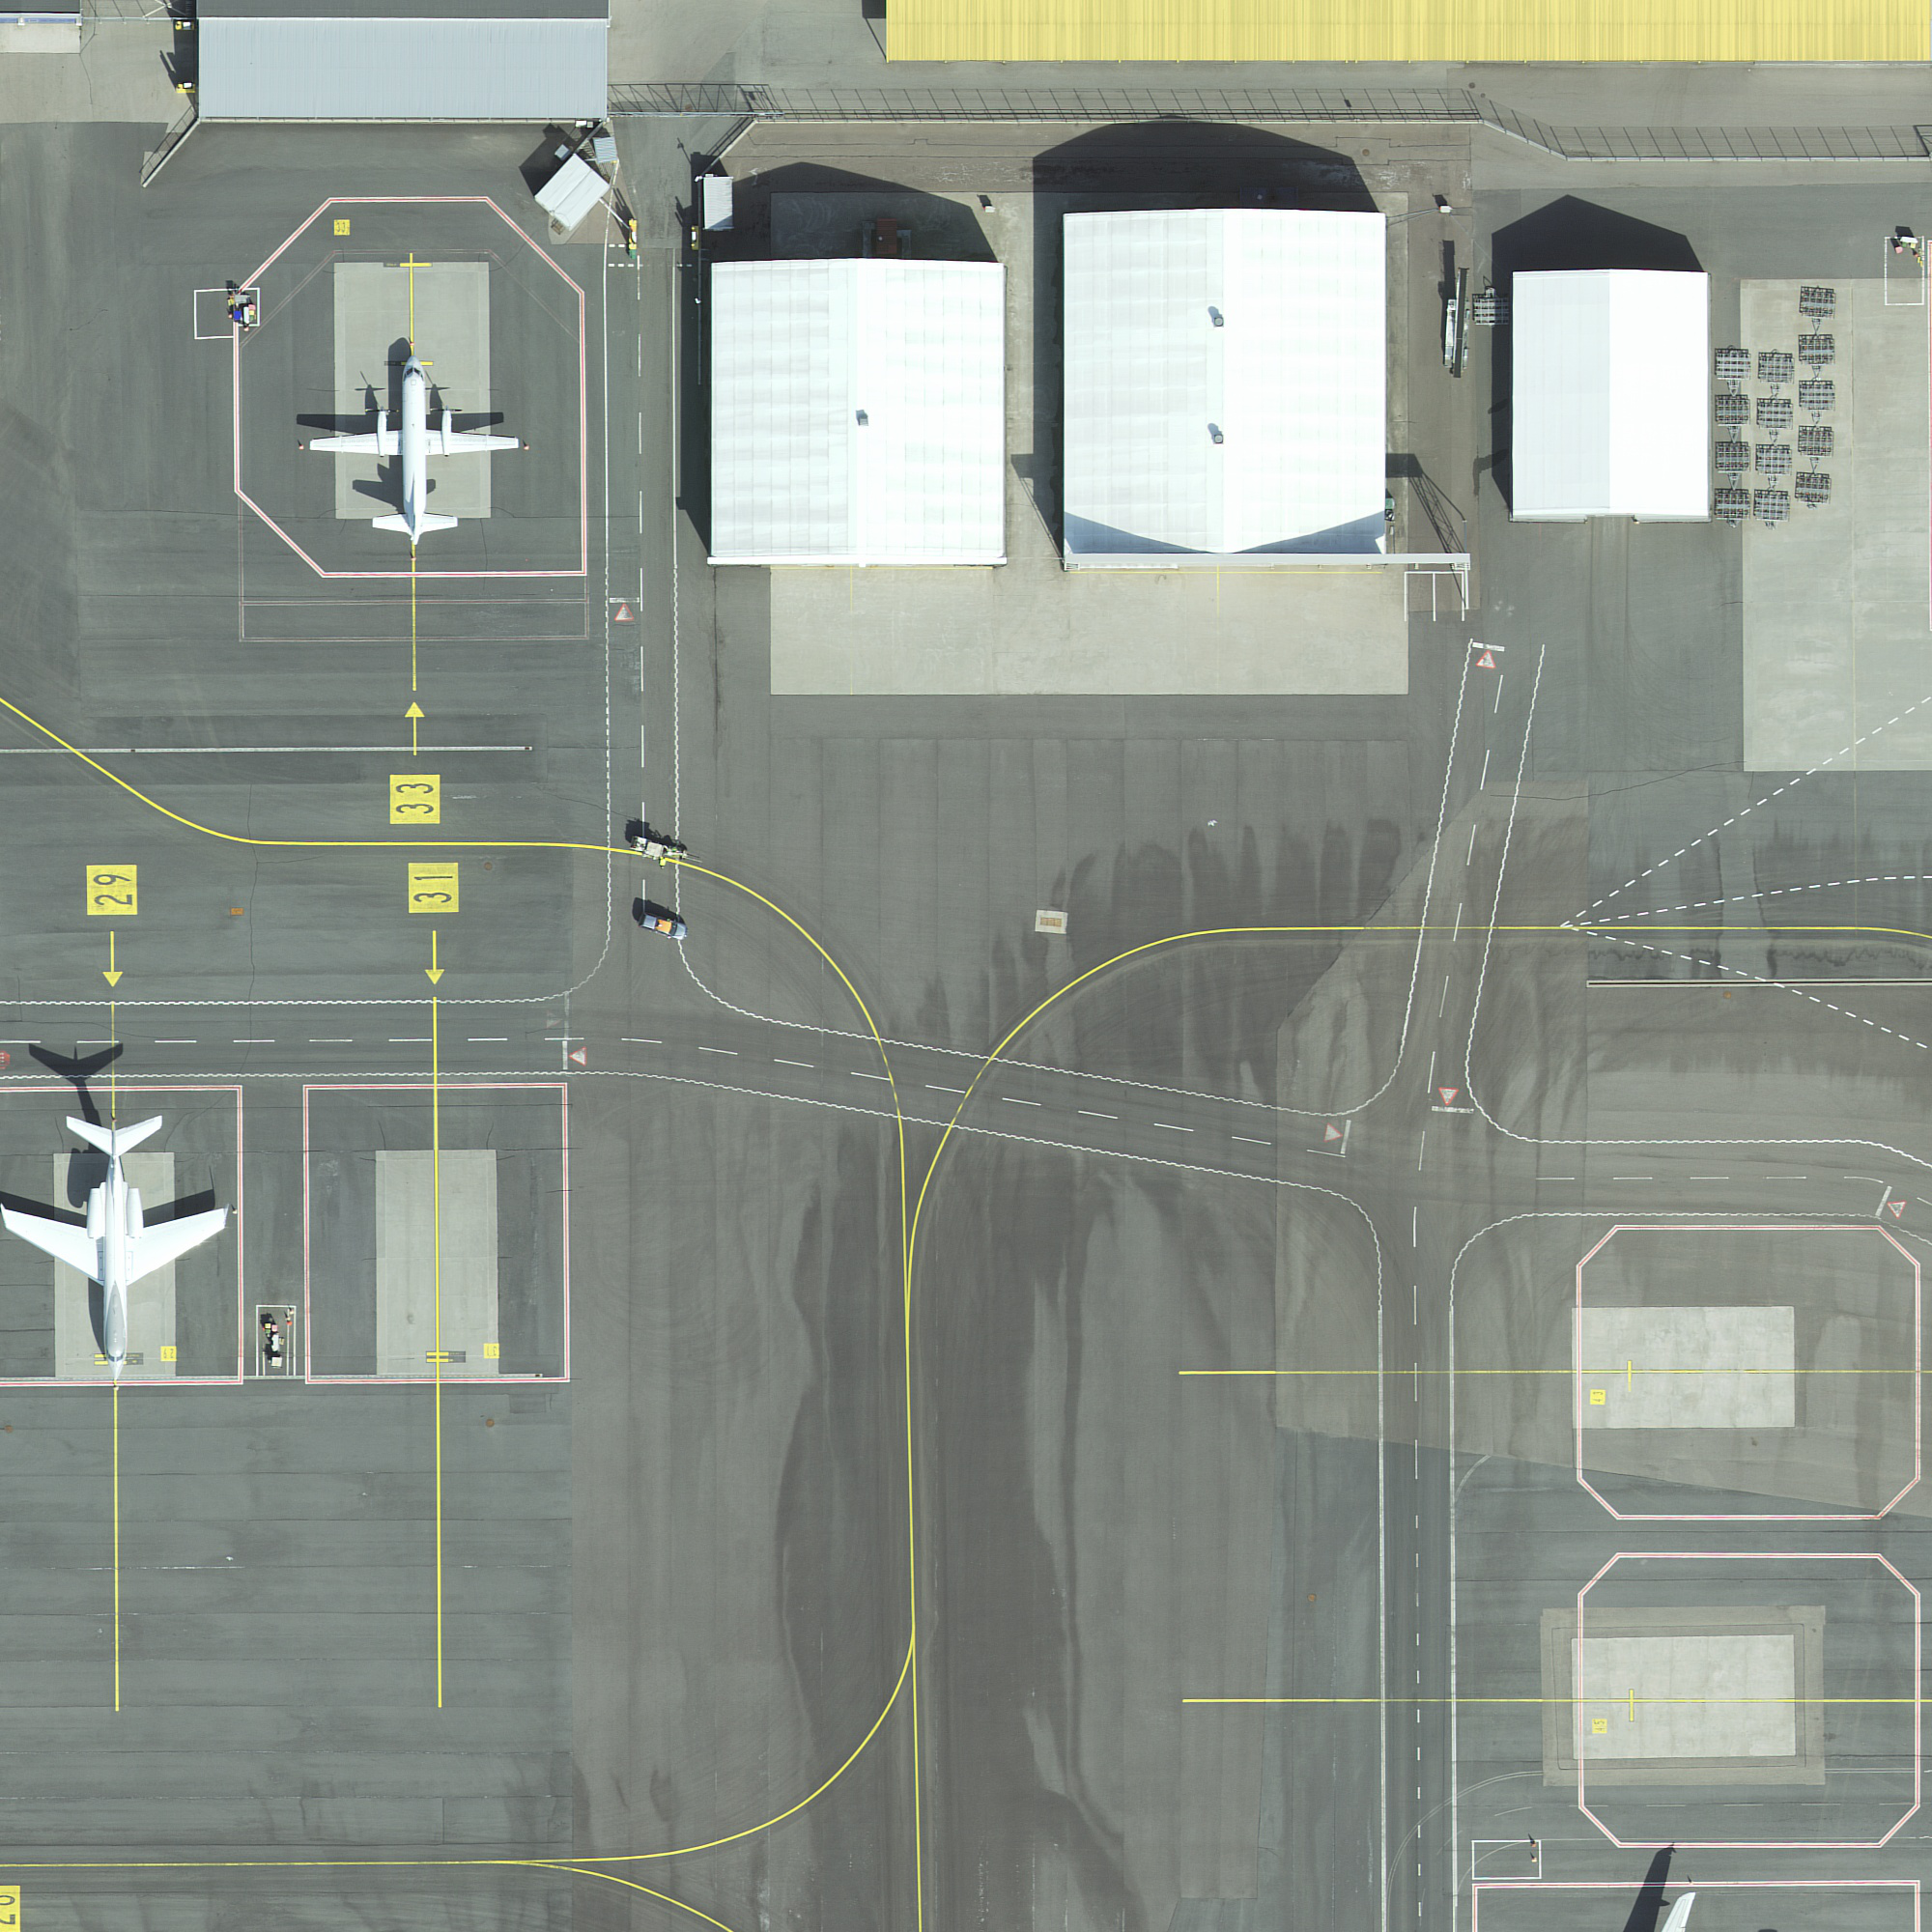Airplane: (2, 1115, 226, 1376), (308, 354, 518, 541)
Building: (1058, 209, 1391, 564), (708, 255, 1017, 559), (1509, 269, 1720, 518)
Car: (637, 911, 694, 941)
